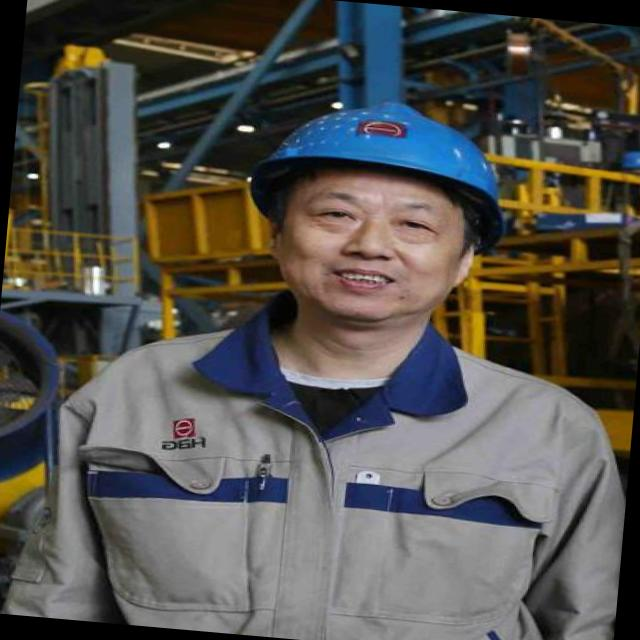helmet: (217, 75, 542, 354)
